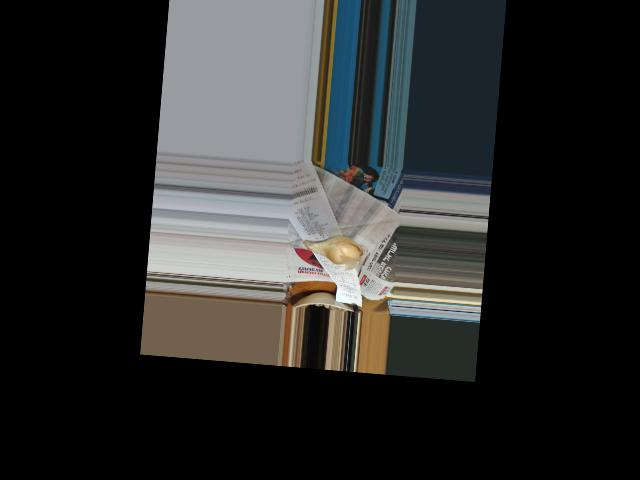onion: (304, 230, 362, 266)
